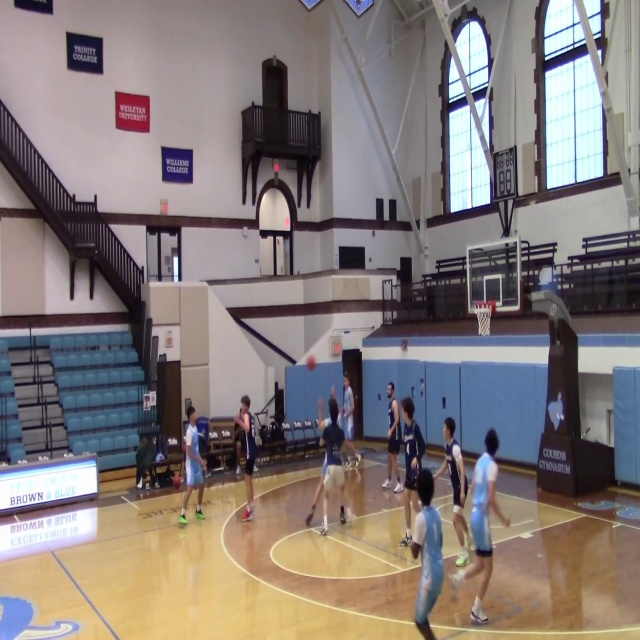Basketball: (306, 354, 316, 371), (172, 475, 181, 487)
